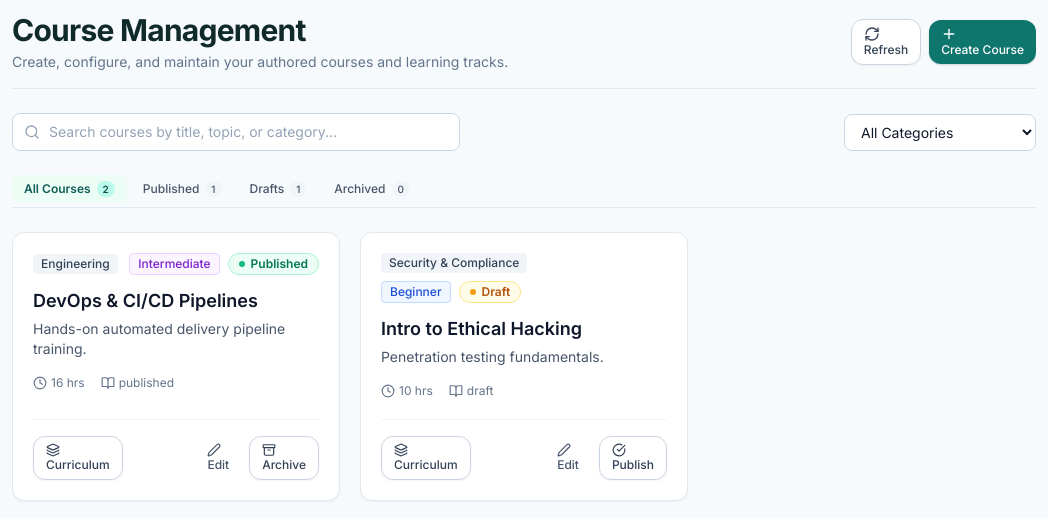
Test: TrainerCoursesPage › filters courses by status tab
This screenshot has width=1048, height=518.
Expected: the heading "DevOps & CI/CD Pipelines" is shown, [33,290,258,311]
Click Drafts tab
Click the button "Drafts 1": (278, 189) [238,175,318,203]
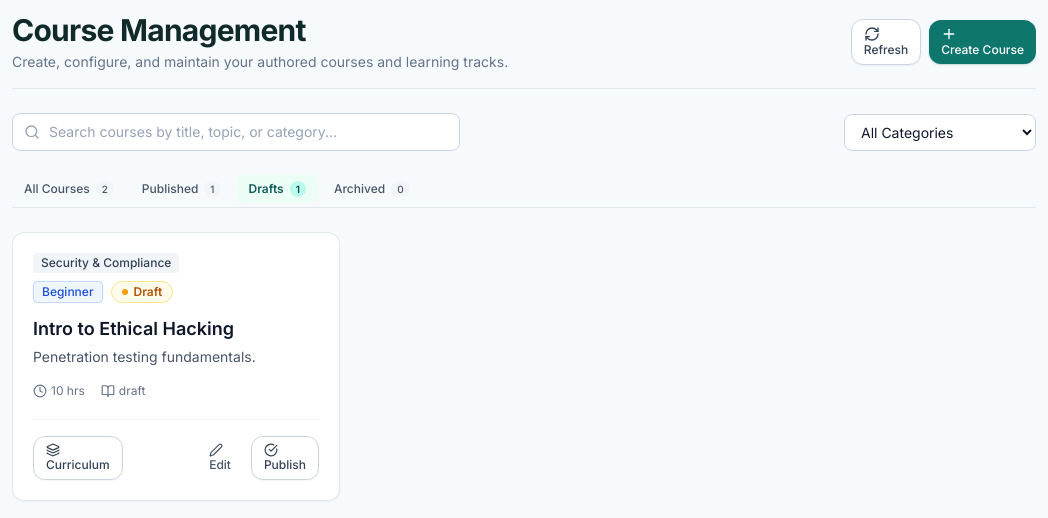
Expected: the heading "Intro to Ethical Hacking" is shown, [33,318,234,339]
Expected: the heading "DevOps & CI/CD Pipelines" is gone
